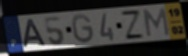4: (99, 12, 115, 42)
5: (43, 15, 66, 47)
A: (21, 18, 48, 49)
G: (70, 13, 96, 45)
M: (142, 7, 171, 39)
Z: (119, 10, 147, 41)
